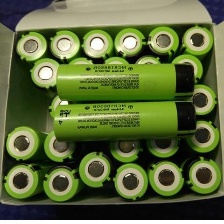battery: (49, 99, 199, 146), (54, 61, 197, 104), (2, 123, 69, 167), (1, 159, 62, 204), (26, 56, 68, 109), (73, 146, 118, 195), (41, 159, 86, 206), (171, 23, 216, 69), (177, 115, 222, 160), (174, 153, 222, 195), (141, 156, 187, 198), (144, 23, 183, 69), (109, 160, 150, 203), (167, 51, 207, 93), (11, 28, 50, 69), (111, 24, 149, 66), (78, 26, 117, 66), (104, 129, 147, 165), (48, 26, 82, 70), (132, 52, 168, 90), (144, 123, 183, 158), (182, 82, 220, 117), (65, 53, 97, 90), (98, 54, 131, 88)
